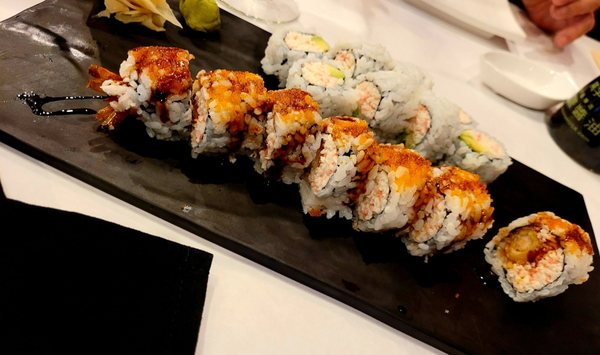curry: (34, 0, 599, 344)
